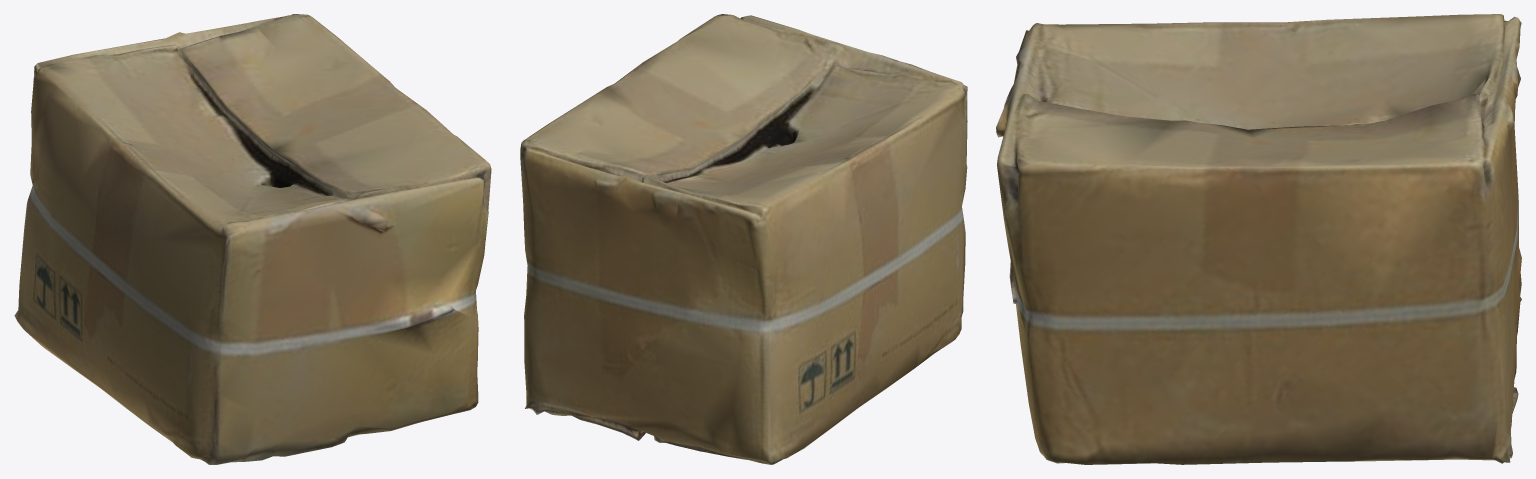
Rendered from cardboard_box_01.glb.
The picture shows the model from 3 angles, left to right: view 1: azimuth 30°, elevation 25°; view 2: azimuth 150°, elevation 25°; view 3: azimuth 270°, elevation 25°; orthographic projection. The views are drawn at different scales.
Visible parts, largest first — view 1: cardboard_box_01; view 2: cardboard_box_01; view 3: cardboard_box_01.
Part boxes in pixels (bbox=[...]): cardboard_box_01: bbox=[14, 14, 491, 464]; cardboard_box_01: bbox=[520, 14, 967, 464]; cardboard_box_01: bbox=[996, 14, 1521, 464].
Bounding box in the file's own units: 0.3867 × 0.3418 × 0.5159.
1 material, 1 textured.
